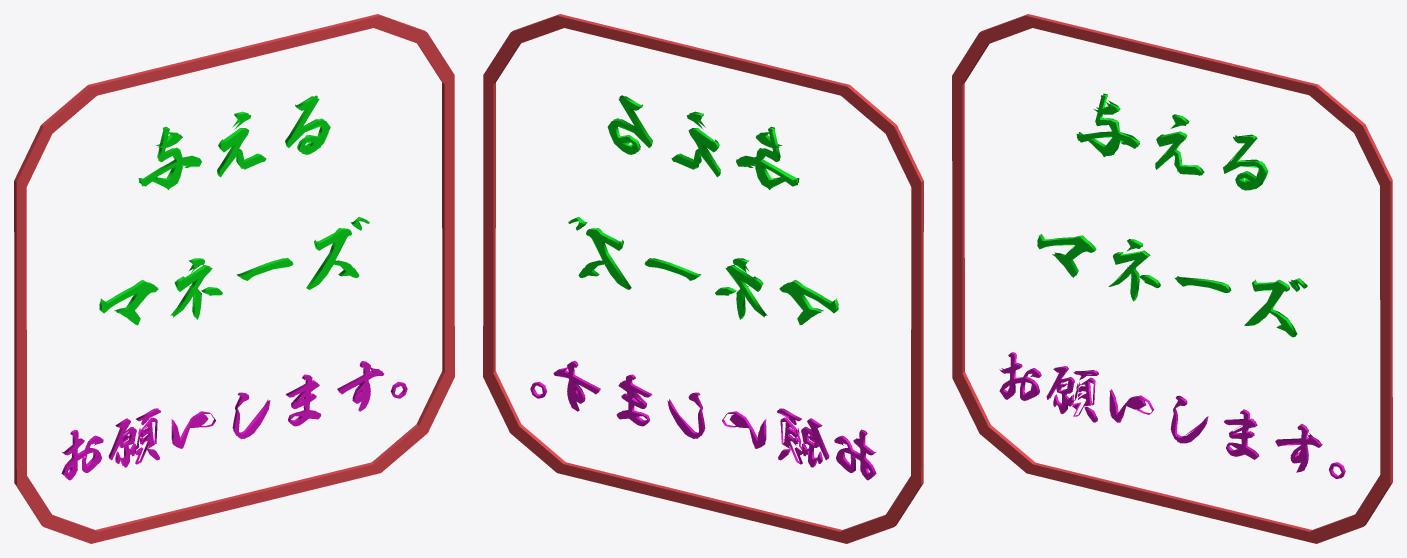
The model's file is BilbordThree.fbx.
3 renders of one model, left to right at view 1: azimuth 30°, elevation 25°; view 2: azimuth 150°, elevation 25°; view 3: azimuth 330°, elevation 25°, orthographic.
Parts seen in each view (by area): view 1: Circle, Text.015, Text.014, Text.013; view 2: Circle, Text.015, Text.014, Text.013; view 3: Circle, Text.015, Text.014, Text.013.
Part boxes in pixels (x1,y1,x2,y2): Circle: (14,14,454,543); Text.015: (61,361,407,480); Text.014: (99,217,369,325); Text.013: (138,95,330,189); Circle: (483,14,923,543); Text.015: (530,360,876,480); Text.014: (568,217,838,325); Text.013: (607,95,799,189); Circle: (952,14,1392,543); Text.015: (999,352,1345,478); Text.014: (1037,234,1307,337); Text.013: (1076,93,1268,190).
Bounding box in the file's own units: 10.06 × 10.04 × 0.1.
